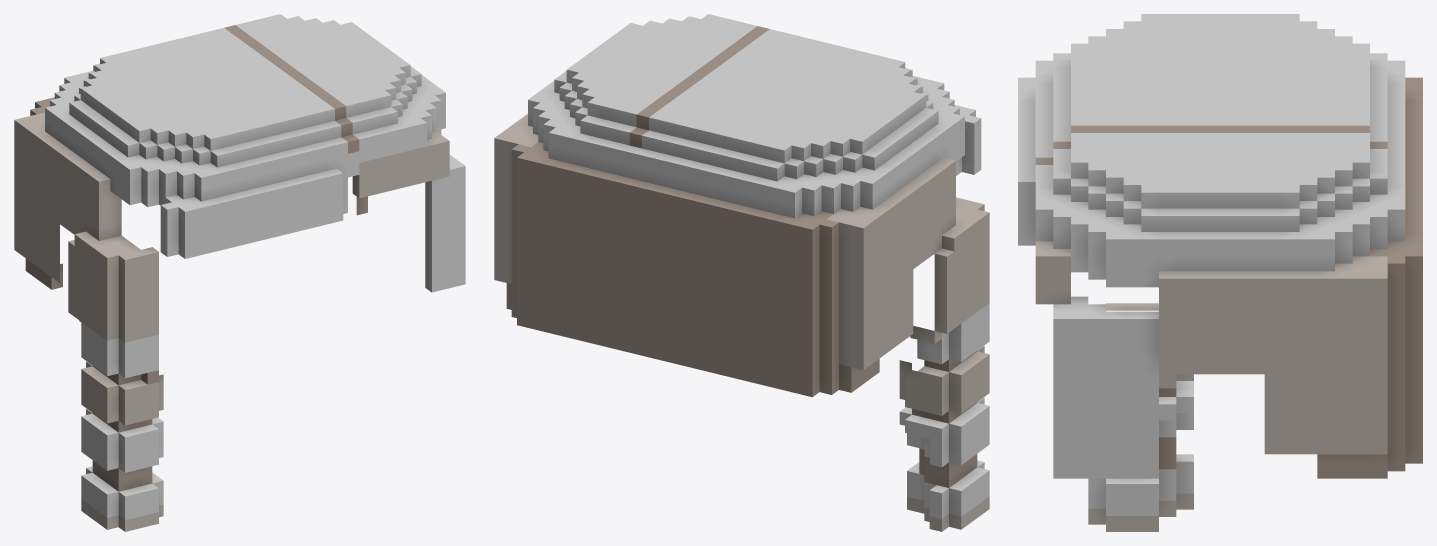
Rendered from hair_f_braid_side.glb.
3 renders of one model, left to right at view 1: azimuth 30°, elevation 25°; view 2: azimuth 150°, elevation 25°; view 3: azimuth 270°, elevation 25°, orthographic. The views are drawn at different scales.
Visible parts, largest first — view 1: VoxelVisual; view 2: VoxelVisual; view 3: VoxelVisual.
Boxes of the visible parts, left/top/right/bottom form: VoxelVisual: left=14, top=14, right=465, bottom=531; VoxelVisual: left=494, top=14, right=989, bottom=531; VoxelVisual: left=1018, top=14, right=1422, bottom=531.
Size of what is drawn, in the model's own units: 1.94 by 2 by 1.44.
